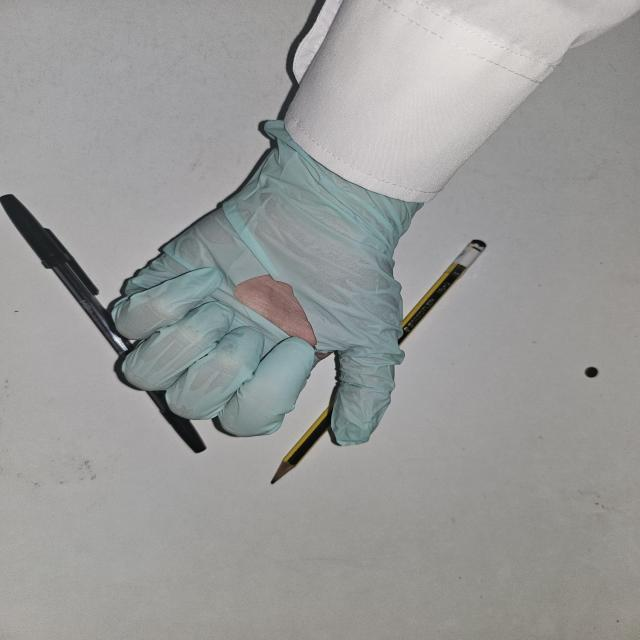gloves_damaged: (103, 99, 435, 448)
